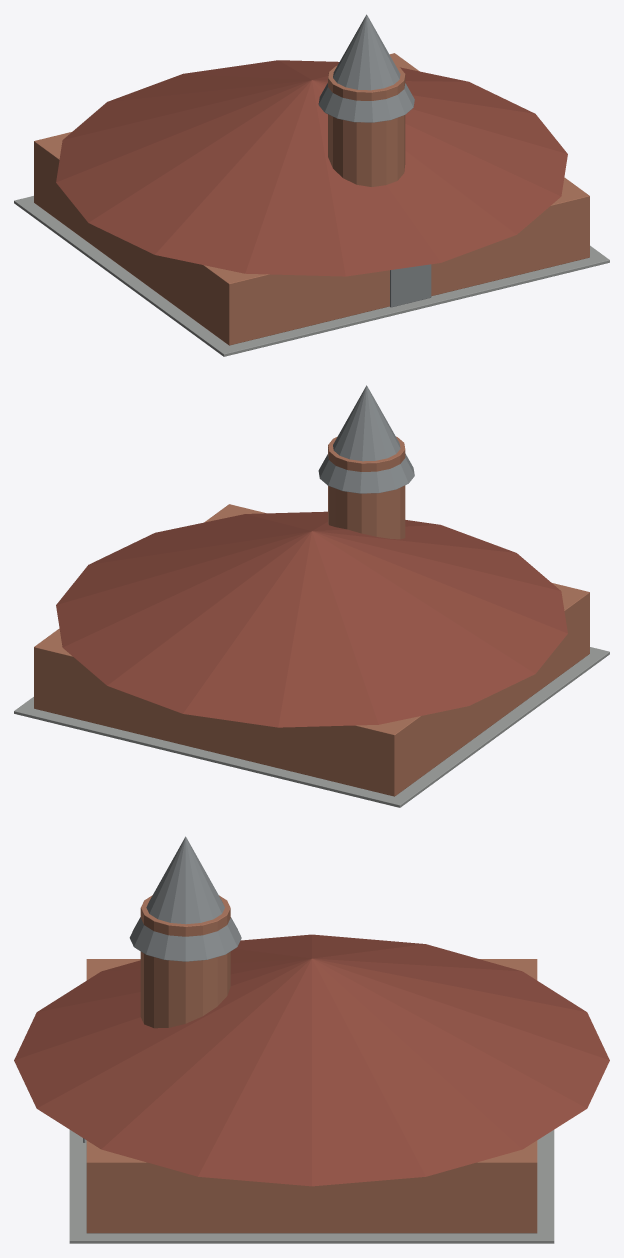
File: Building_Landmark_002.glb
The picture shows the model from 3 angles, top to bottom: view 1: azimuth 30°, elevation 25°; view 2: azimuth 150°, elevation 25°; view 3: azimuth 270°, elevation 25°; orthographic projection. The views are drawn at different scales.
Parts seen in each view (by area): view 1: Building_Landmark_002; view 2: Building_Landmark_002; view 3: Building_Landmark_002.
Boxes of the visible parts, left/top/right/bottom form: Building_Landmark_002: left=14, top=14, right=609, bottom=356; Building_Landmark_002: left=14, top=385, right=609, bottom=807; Building_Landmark_002: left=14, top=836, right=609, bottom=1243.
Size of the model in its own units: 26.49 by 14.66 by 26.49.
